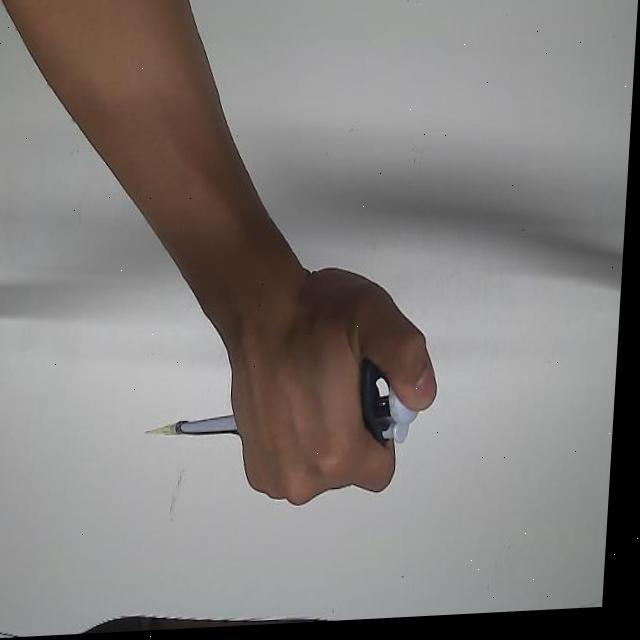Single Channel Pipettor: (182, 357, 454, 459)
